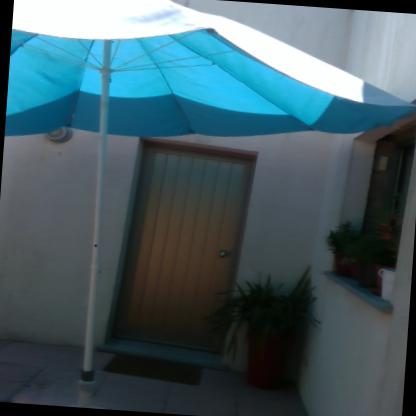closed: (93, 122, 270, 370)
